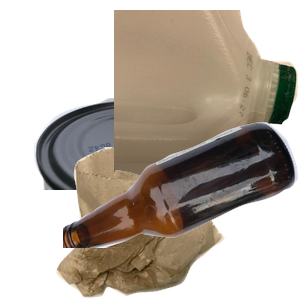glass: (63, 120, 300, 300)
metal: (16, 96, 244, 276)
plastic: (114, 10, 300, 179)
trash: (54, 147, 271, 300)
